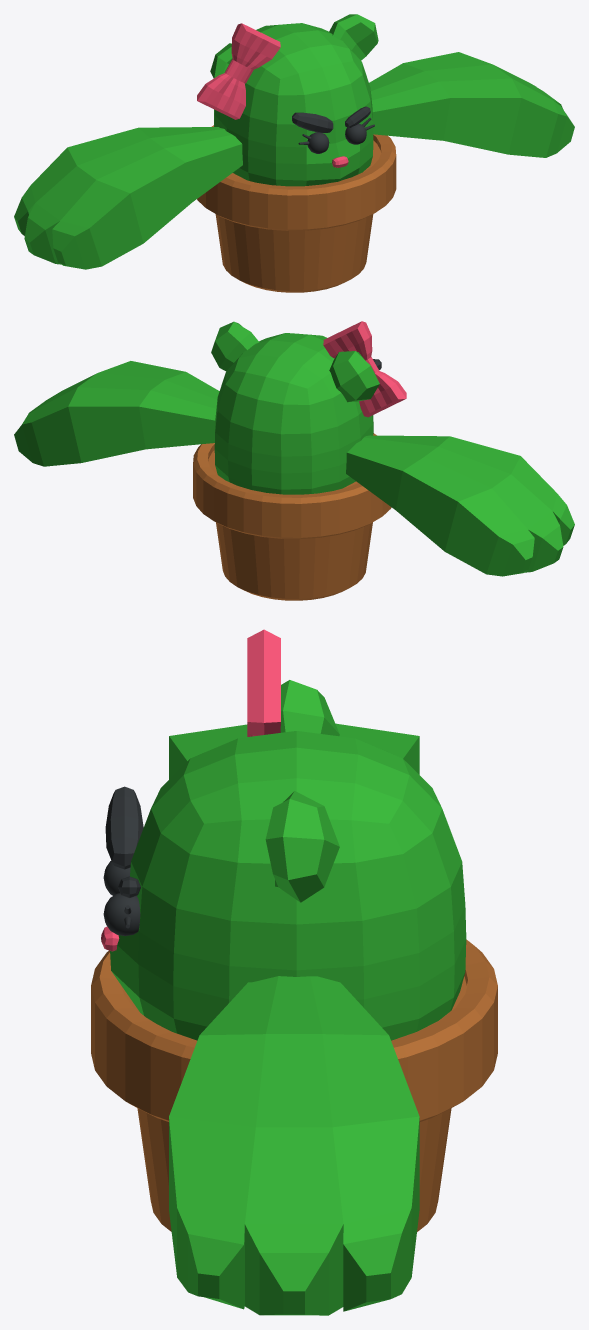
Rendered from nami.glb.
3 renders of one model, top to bottom at view 1: azimuth 30°, elevation 25°; view 2: azimuth 150°, elevation 25°; view 3: azimuth 270°, elevation 25°, orthographic. The views are drawn at different scales.
Visible parts, largest first — view 1: Nami; view 2: Nami; view 3: Nami.
Boxes of the visible parts, bbox=[...] form: Nami: bbox=[14, 14, 574, 292]; Nami: bbox=[14, 321, 574, 600]; Nami: bbox=[91, 629, 497, 1315].
Bounding box in the file's own units: 5.46 × 2.61 × 1.81.
